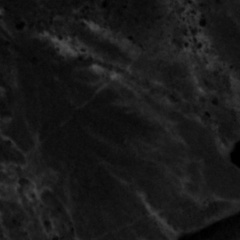Vegetation: (179, 3, 210, 63), (9, 171, 53, 204), (55, 36, 82, 58), (90, 63, 121, 82), (88, 22, 106, 35)
